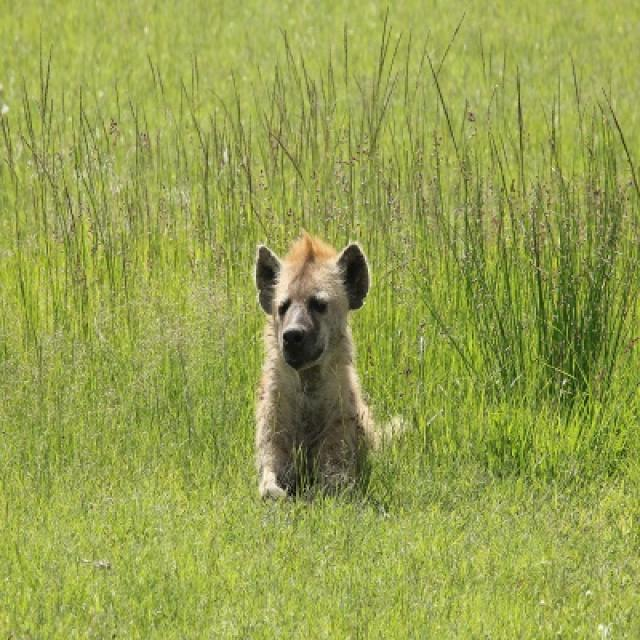hyena: (254, 234, 379, 502)
